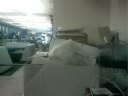window: (3, 2, 128, 96)
